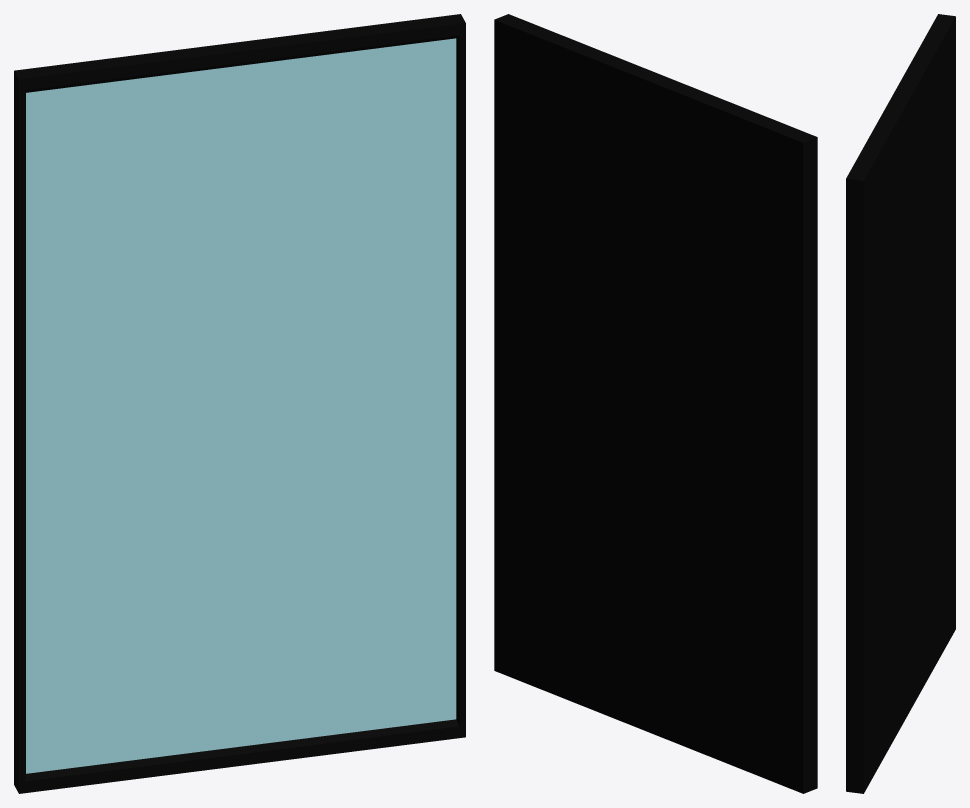
File: rightScreen.fbx
The picture shows the model from 3 angles, left to right: view 1: azimuth 30°, elevation 25°; view 2: azimuth 150°, elevation 25°; view 3: azimuth 270°, elevation 25°; orthographic projection. The views are drawn at different scales.
Visible parts, largest first — view 1: Box034; view 2: Box034; view 3: Box034.
Boxes of the visible parts, <box> form: Box034: <box>14,14,465,793</box>; Box034: <box>494,14,817,793</box>; Box034: <box>846,14,955,793</box>.
Bounding box in the file's own units: 94.75 × 162 × 26.36.
